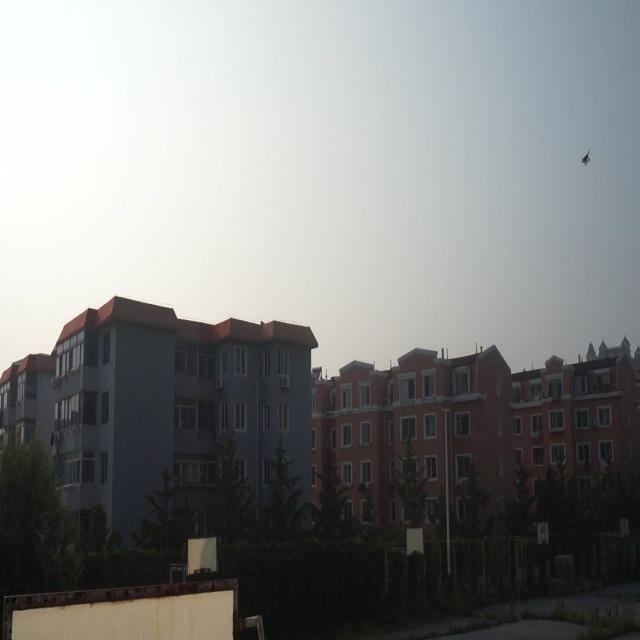UAV: (581, 149, 591, 166)
